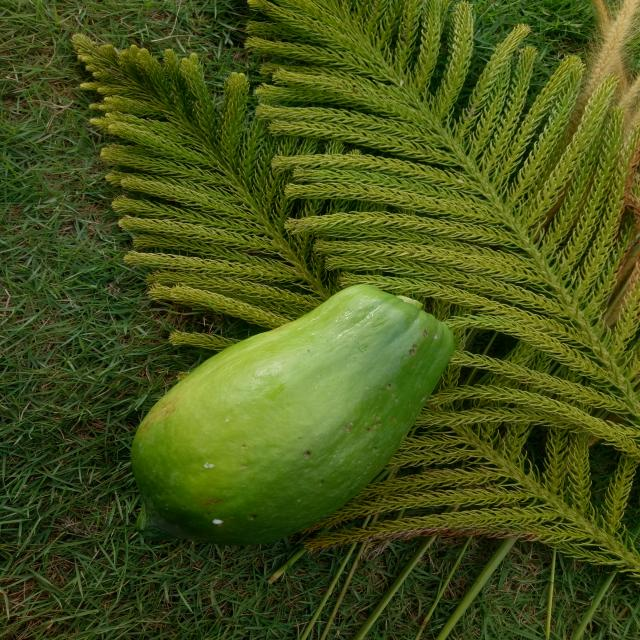Pepaya unrippen: (114, 282, 462, 560)
